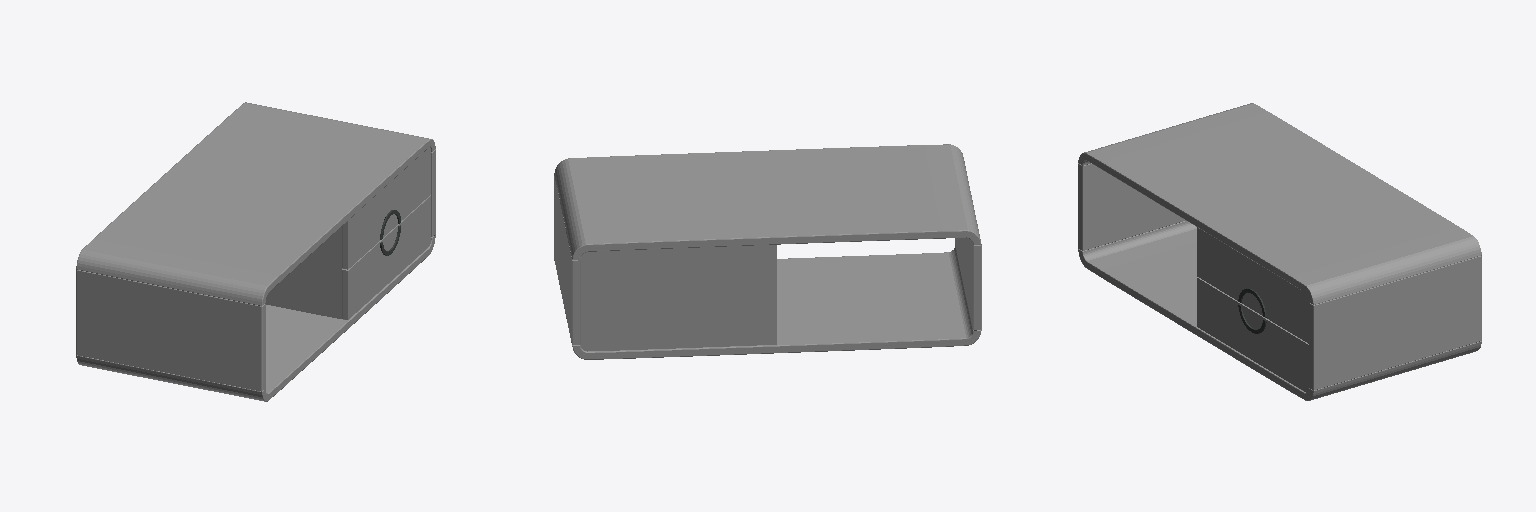
The model's file is tableall.obj.
3 views of the same model, side by side, from view 1: azimuth 30°, elevation 25°; view 2: azimuth 150°, elevation 25°; view 3: azimuth 270°, elevation 25° (orthographic).
Visible parts, largest first — view 1: Object001, Plane001, Plane003, Plane004; view 2: Object001, Plane004, Plane001; view 3: Object001, Plane001, Plane003.
Boxes of the visible parts, x1=… form: Object001: x1=76, y1=102, x2=435, y2=401; Plane001: x1=76, y1=149, x2=435, y2=391; Plane003: x1=342, y1=147, x2=430, y2=319; Plane004: x1=265, y1=227, x2=342, y2=318; Object001: x1=554, y1=144, x2=981, y2=359; Plane004: x1=580, y1=245, x2=776, y2=351; Plane001: x1=554, y1=174, x2=981, y2=344; Object001: x1=1078, y1=103, x2=1481, y2=400; Plane001: x1=1078, y1=163, x2=1481, y2=390; Plane003: x1=1197, y1=227, x2=1308, y2=392.
Bounding box in the file's own units: 10.5 × 3.17 × 9.33.